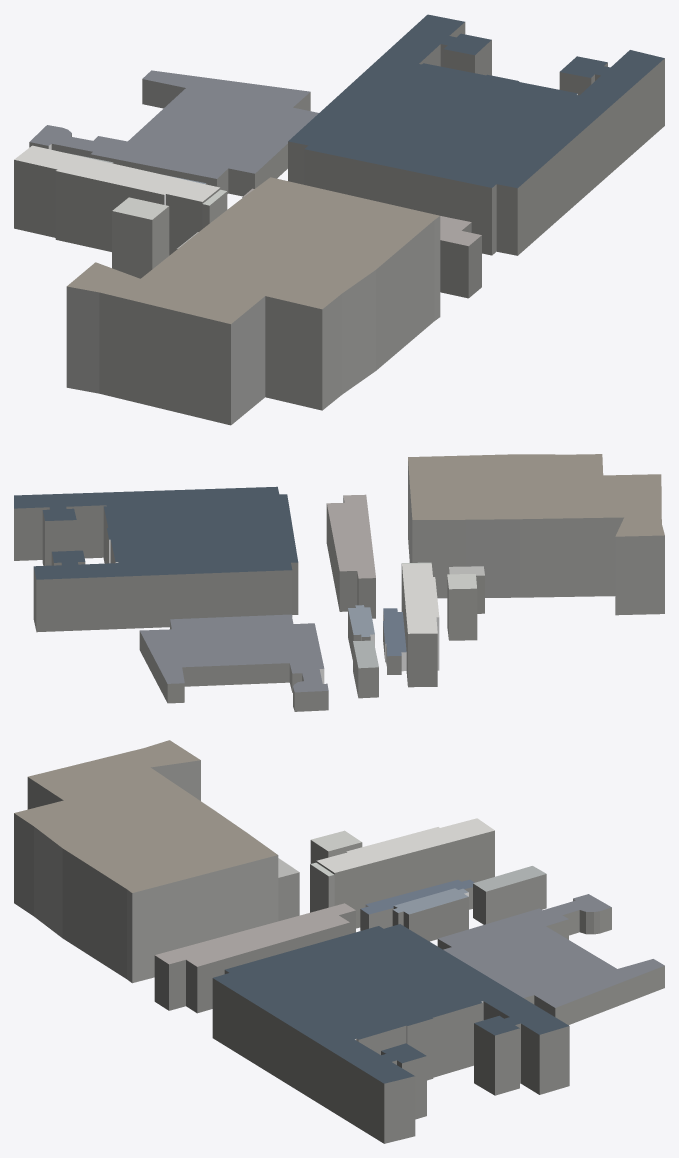
3 views of the same model, one above another, from view 1: azimuth 30°, elevation 25°; view 2: azimuth 150°, elevation 25°; view 3: azimuth 270°, elevation 25° (orthographic). The views are drawn at different scales.
Visible parts, largest first — view 1: tuile; view 2: tuile; view 3: tuile.
Boxes of the visible parts, left/top/right/bottom form: tuile: left=14, top=14, right=664, bottom=425; tuile: left=14, top=454, right=664, bottom=711; tuile: left=14, top=740, right=664, bottom=1143.
Size of the model in its own units: 365 by 49.98 by 322.
